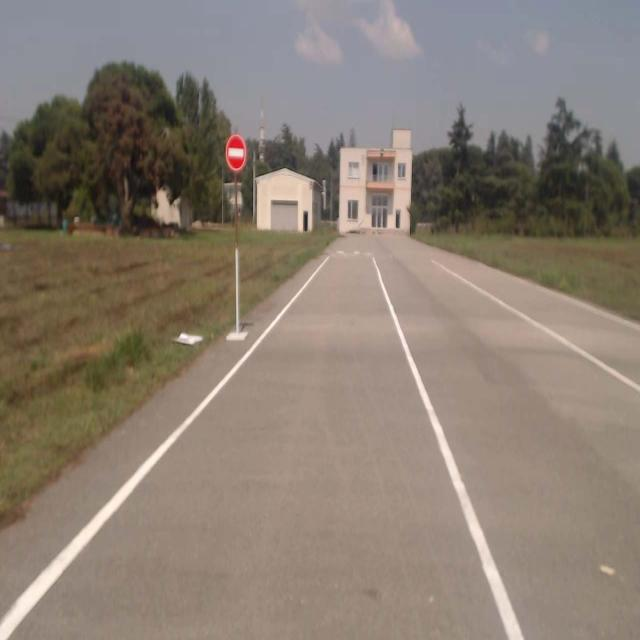girisyok: (226, 136, 245, 168)
